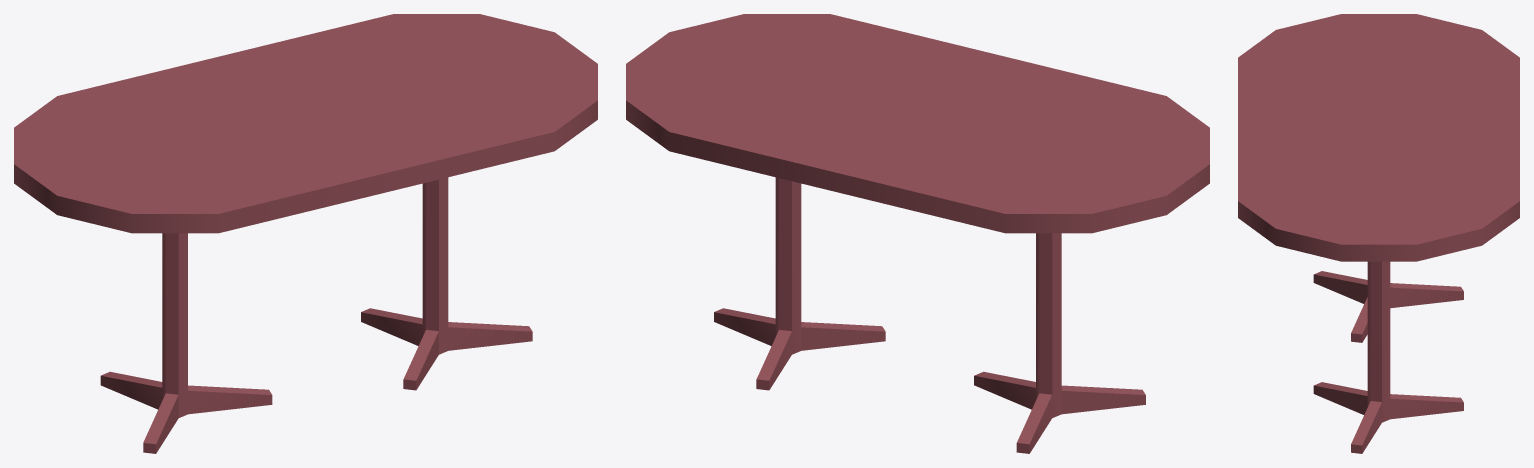
File: table long.fbx
3 views of the same model, side by side, from view 1: azimuth 30°, elevation 25°; view 2: azimuth 150°, elevation 25°; view 3: azimuth 270°, elevation 25° (orthographic). The views are drawn at different scales.
Visible parts, largest first — view 1: table2; view 2: table2; view 3: table2.
Boxes of the visible parts, <box> form: table2: <box>14,14,597,453</box>; table2: <box>626,14,1209,453</box>; table2: <box>1238,14,1519,453</box>.
Size of the model in its own units: 92.14 by 43.48 by 47.57.
1 material, 1 textured.
